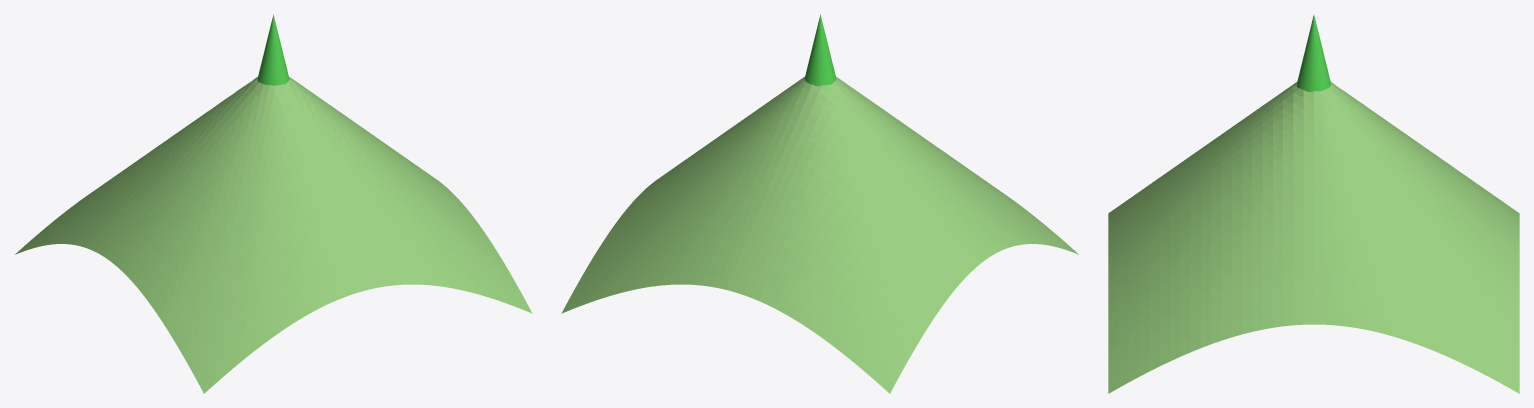
3 renders of one model, left to right at view 1: azimuth 30°, elevation 25°; view 2: azimuth 150°, elevation 25°; view 3: azimuth 270°, elevation 25°, orthographic. The views are drawn at different scales.
Visible parts, largest first — view 1: island, tree; view 2: island, tree; view 3: island, tree.
Boxes of the visible parts, x1,y1,x2,y2 form: island: (15,76,532,393); tree: (257,14,289,85); island: (561,76,1078,393); tree: (804,14,836,86); island: (1108,82,1519,393); tree: (1296,15,1330,92).
Bounding box in the file's own units: 200 × 157 × 200.
